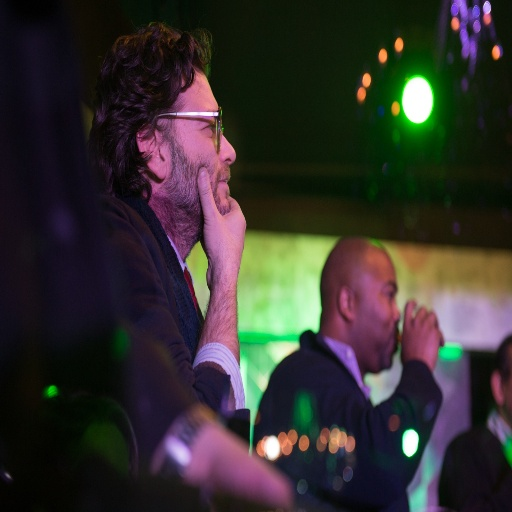hand: (173, 418, 293, 510), (196, 167, 246, 290), (400, 297, 445, 372)
